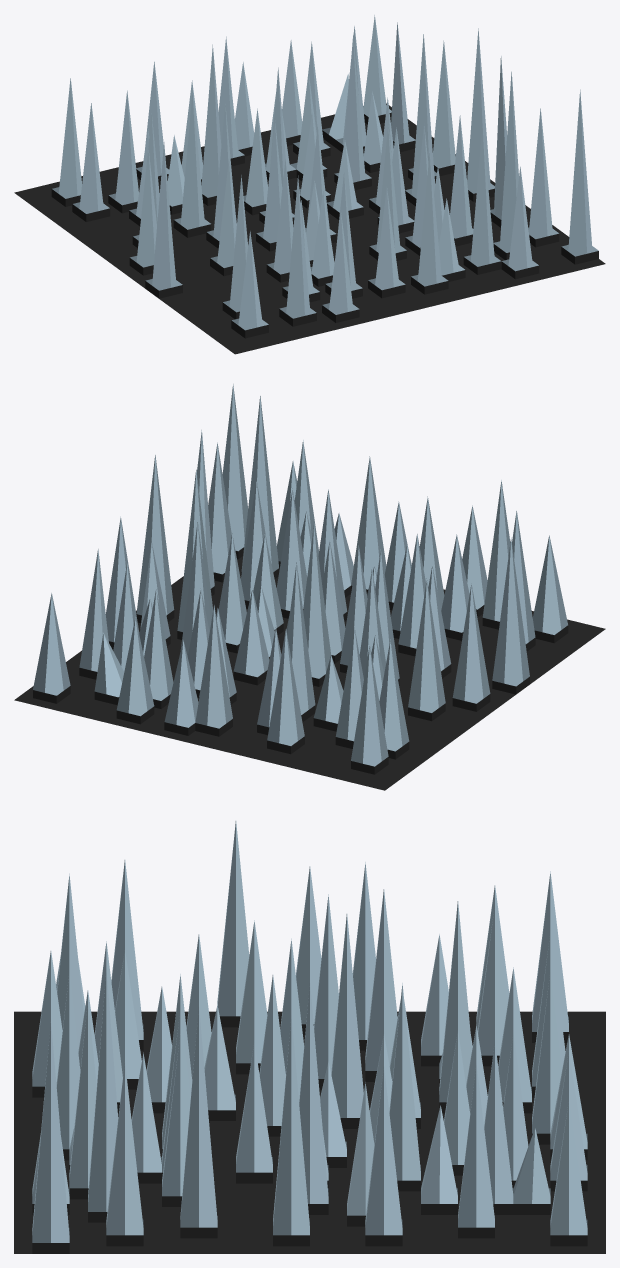
Rendered from spikes.glb.
3 renders of one model, top to bottom at view 1: azimuth 30°, elevation 25°; view 2: azimuth 150°, elevation 25°; view 3: azimuth 270°, elevation 25°, orthographic. The views are drawn at different scales.
Visible parts, largest first — view 1: Plane; view 2: Plane; view 3: Plane.
Part boxes in pixels (bbox=[...]): Plane: bbox=[14, 15, 605, 354]; Plane: bbox=[14, 384, 605, 790]; Plane: bbox=[14, 821, 605, 1253].
Size of the model in its own units: 1 by 0.4761 by 1.04.
